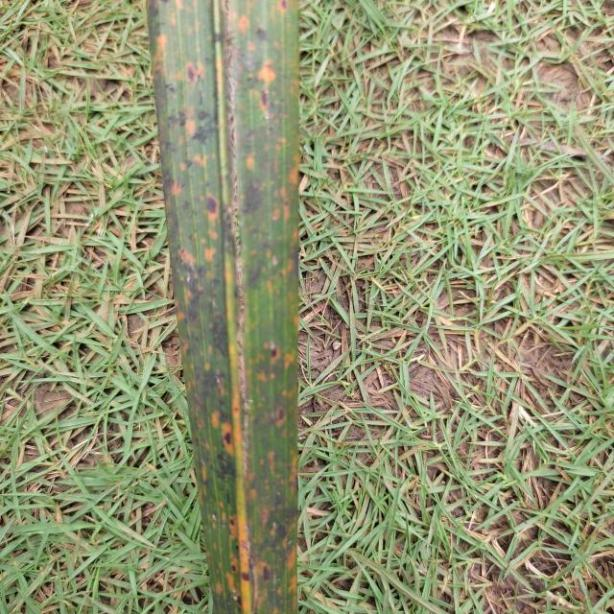Kalium: (147, 0, 304, 614)
